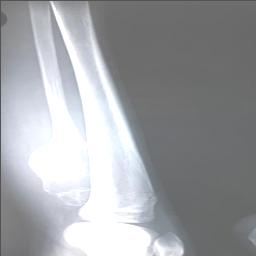cancer: (26, 128, 112, 204)
